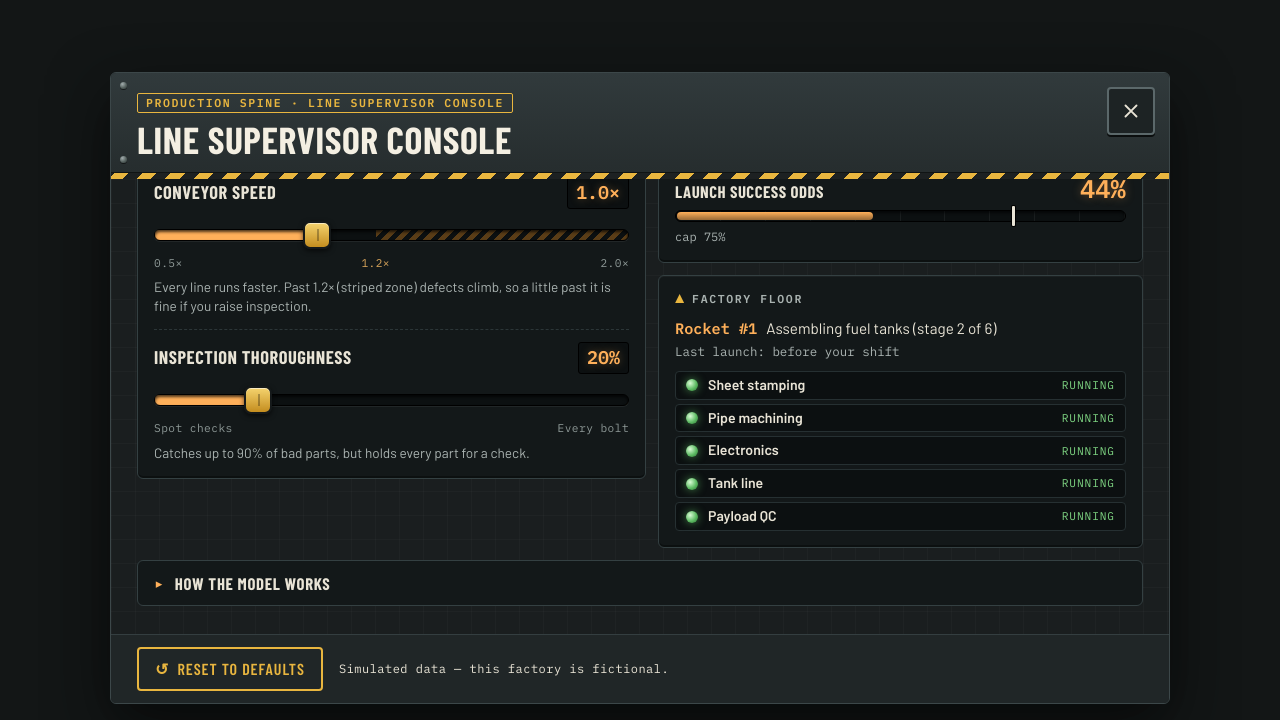
Line Supervisor Console › explains the model in plain language on demand
(page scrolled)
Click the heading "How the model works": (253, 582) top-left (175, 572), bottom-right (330, 592)
(page scrolled)
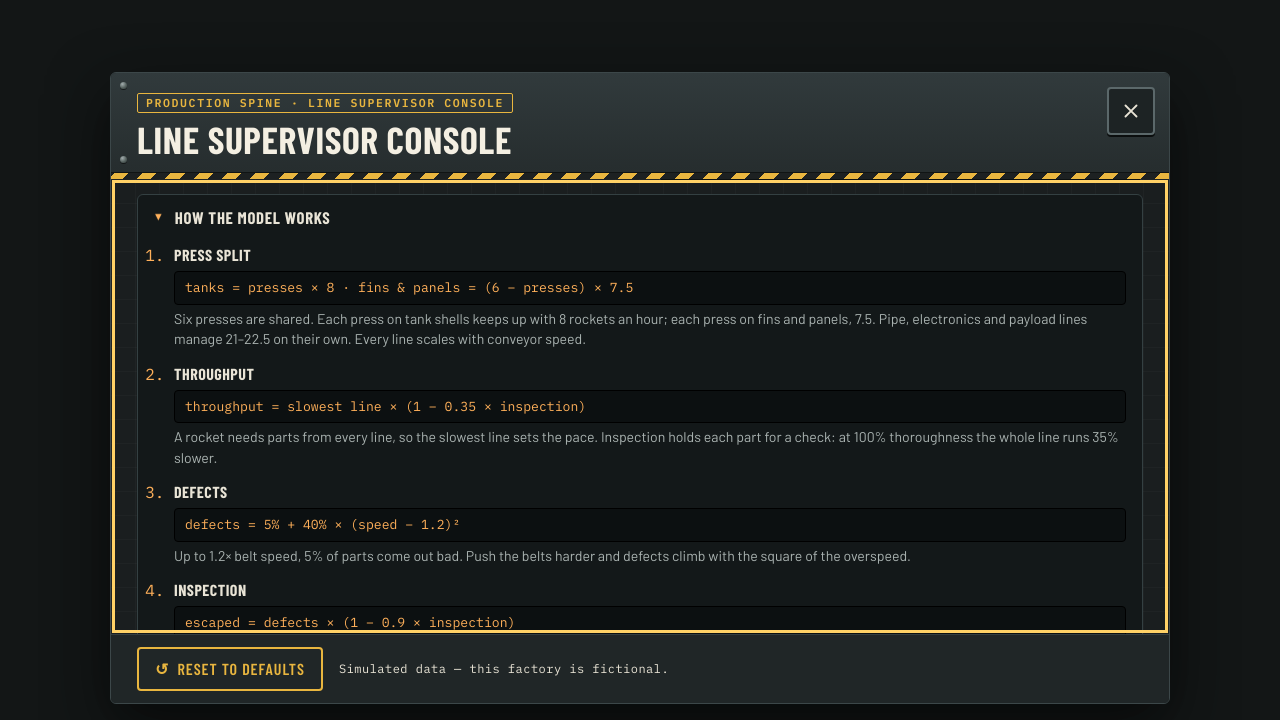
Now the text "throughput = slowest line × (1 − 0.35 × inspection)" is shown, box top-left (174, 390), bottom-right (1126, 423)
